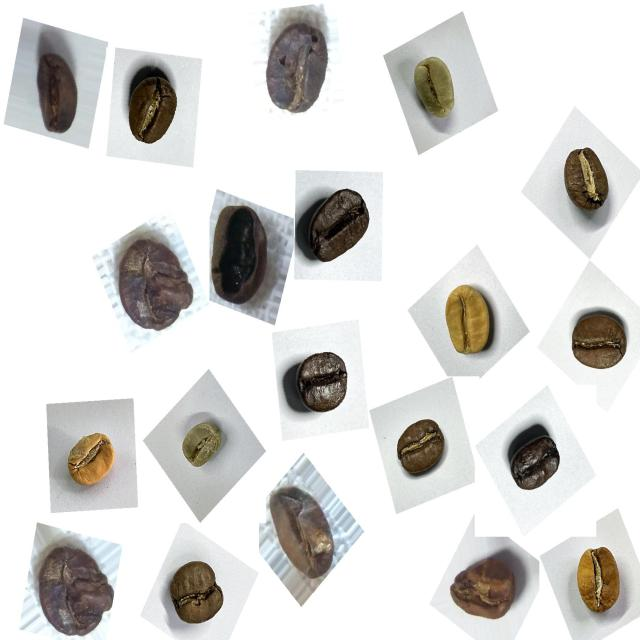bad: (108, 225, 201, 342), (24, 527, 122, 637), (199, 197, 279, 316), (257, 482, 343, 588), (255, 9, 335, 119), (441, 540, 532, 636), (26, 35, 92, 144)
dark: (294, 176, 380, 275), (501, 419, 574, 508), (287, 336, 360, 424)
green: (402, 44, 471, 131), (173, 413, 232, 481)
light: (434, 275, 509, 370), (561, 533, 632, 627), (51, 415, 125, 500)
medium: (115, 64, 190, 160), (546, 136, 620, 230), (162, 550, 236, 638), (563, 302, 635, 383), (387, 407, 457, 487)
